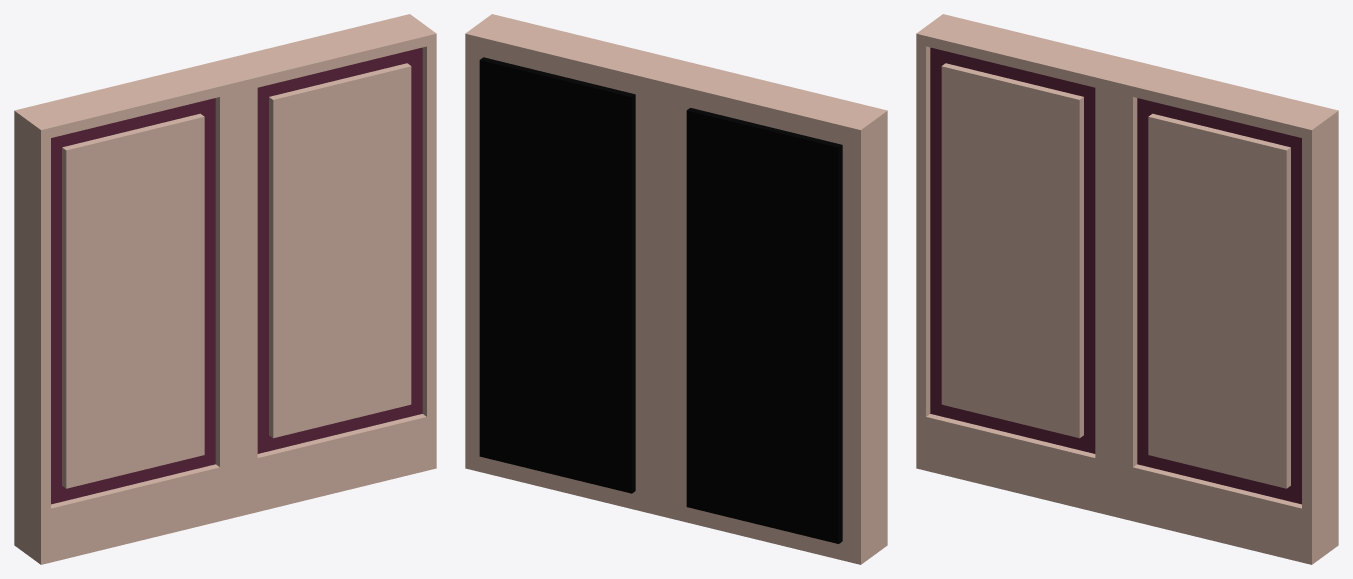
File: en_TransitionDoor.FBX
3 renders of one model, left to right at view 1: azimuth 30°, elevation 25°; view 2: azimuth 150°, elevation 25°; view 3: azimuth 330°, elevation 25°, orthographic.
Visible parts, largest first — view 1: en_TransitionDoor; view 2: en_TransitionDoor; view 3: en_TransitionDoor.
Part boxes in pixels (x1,y1,x2,y2): en_TransitionDoor: (14, 14, 436, 564); en_TransitionDoor: (465, 14, 887, 564); en_TransitionDoor: (916, 14, 1338, 564).
Size of the model in its own units: 200 by 210 by 26.84.
Materials: 1 (1 with a texture image).
